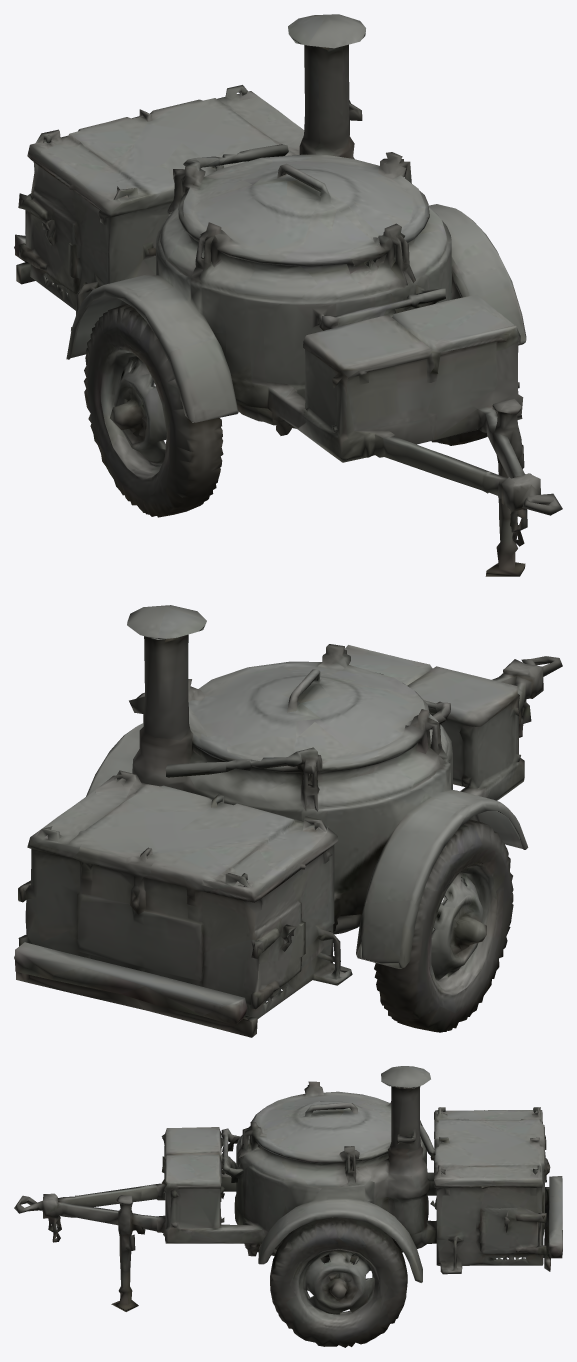
Rendered from prop_kitchen.glb.
3 views of the same model, one above another, from view 1: azimuth 30°, elevation 25°; view 2: azimuth 150°, elevation 25°; view 3: azimuth 270°, elevation 25° (orthographic). The views are drawn at different scales.
Parts seen in each view (by area): view 1: tripo_node_e4d286fa-d2a0-4fcf-8148-ec02476ad0df; view 2: tripo_node_e4d286fa-d2a0-4fcf-8148-ec02476ad0df; view 3: tripo_node_e4d286fa-d2a0-4fcf-8148-ec02476ad0df.
Part boxes in pixels (x1=…): tripo_node_e4d286fa-d2a0-4fcf-8148-ec02476ad0df: x1=14, y1=14, x2=562, y2=576; tripo_node_e4d286fa-d2a0-4fcf-8148-ec02476ad0df: x1=14, y1=605, x2=562, y2=1037; tripo_node_e4d286fa-d2a0-4fcf-8148-ec02476ad0df: x1=14, y1=1066, x2=562, y2=1347.
Size of the model in its own units: 0.5029 by 0.5141 by 1.
Materials: 1 (1 with a texture image).
